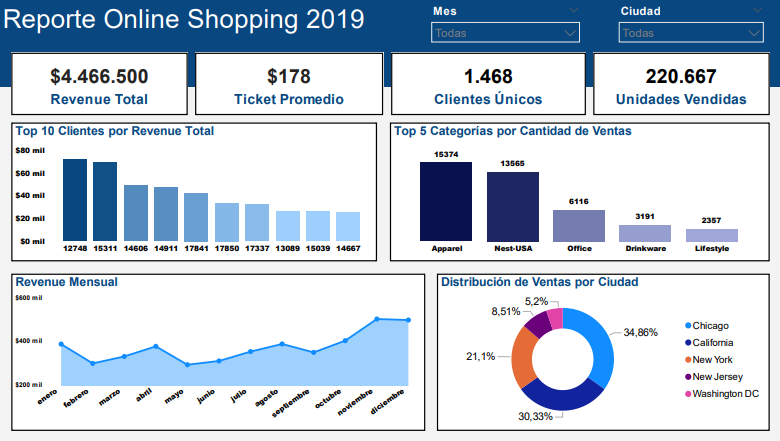

This screenshot's page, from the dashboard's own definition file:
{"tool":"powerbi","page":{"name":"Página 1","canvas":[1280,720],"ordinal":0},"visuals":[{"type":"columnChart","title":"Top 10 Clientes por Revenue Total","fields":{"Y":["Consulta1.Revenue"],"Category":["Ventas.CustomerID"]},"box":[18.7,198.7,599,227.5],"z":0},{"type":"textbox","box":[0,0,1280.2,141.1],"z":5000},{"type":"donutChart","title":"Distribución de Ventas por Ciudad","fields":{"Category":["Ventas.Location"],"Y":["Ventas.Total Ventas"]},"box":[715.7,446.4,545.8,256.3],"z":7000},{"type":"areaChart","title":"Revenue Mensual","fields":{"Y":["Ventas.Revenue Total"],"Category":["Ventas.Transaction_Date.Variación.Jerarquía de fechas.Mes"]},"box":[18.7,446.4,678.2,256.3],"z":9000},{"type":"columnChart","title":"Top 5 Categorías por Cantidad de Ventas","fields":{"Category":["Ventas.Product_Category"],"Y":["Ventas.Total Ventas"]},"box":[639.4,198.7,622.1,227.5],"z":10000},{"type":"slicer","fields":{"Values":["Consulta1.Location"]},"box":[1003.7,0,257.8,74.9],"z":10500},{"type":"slicer","fields":{"Values":["Consulta1.Transaction_Date.Variación.Jerarquía de fechas.Mes"]},"box":[697,0,263.5,74.9],"z":11000},{"type":"card","fields":{"Values":["Consulta1.Revenue"]},"box":[18.7,85,289.4,102.2],"z":11500},{"type":"card","fields":{"Values":["Ventas.Ticket Promedio"]},"box":[319.7,85,308.2,102.2],"z":12000},{"type":"card","fields":{"Values":["Consulta1.Clientes Únicos"]},"box":[640.8,85,319.7,102.2],"z":12500},{"type":"card","fields":{"Values":["Ventas.Productos Vendidos"]},"box":[972,85,289.4,102.2],"z":13000}]}

Visuals, with their boxes in screenshot pixels (x1, y1, x2, y2), scaled from the page's 1280x720 canvas onto the 780x441 screenshot:
"Top 10 Clientes por Revenue Total" columnChart: <bbox>11, 122, 376, 261</bbox>
textbox: <bbox>0, 0, 779, 86</bbox>
"Distribución de Ventas por Ciudad" donutChart: <bbox>436, 273, 769, 430</bbox>
"Revenue Mensual" areaChart: <bbox>11, 273, 425, 430</bbox>
"Top 5 Categorías por Cantidad de Ventas" columnChart: <bbox>390, 122, 769, 261</bbox>
slicer - Consulta1.Location: <bbox>612, 0, 769, 46</bbox>
slicer - Consulta1.Transaction_Date.Variación.Jerarquía de fechas.Mes: <bbox>425, 0, 585, 46</bbox>
card - Consulta1.Revenue: <bbox>11, 52, 188, 115</bbox>
card - Ventas.Ticket Promedio: <bbox>195, 52, 383, 115</bbox>
card - Consulta1.Clientes Únicos: <bbox>390, 52, 585, 115</bbox>
card - Ventas.Productos Vendidos: <bbox>592, 52, 769, 115</bbox>
